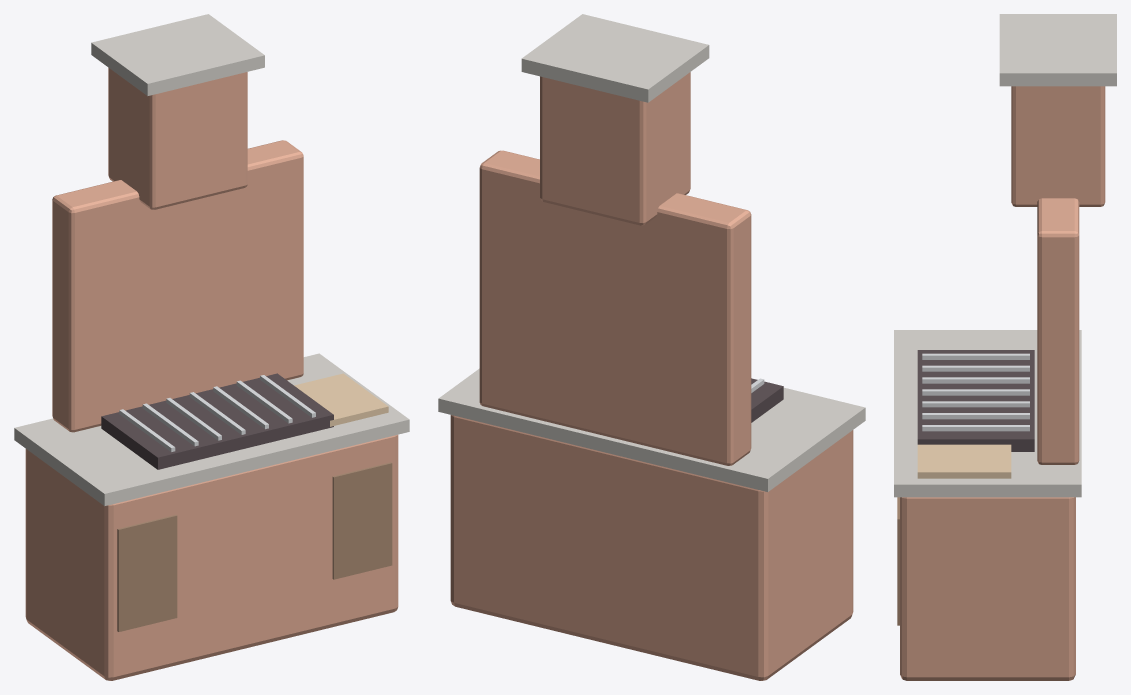
The model's file is churrasqueira.glb.
3 renders of one model, left to right at view 1: azimuth 30°, elevation 25°; view 2: azimuth 150°, elevation 25°; view 3: azimuth 270°, elevation 25°, orthographic. The views are drawn at different scales.
Parts seen in each view (by area): view 1: churrasqueira; view 2: churrasqueira; view 3: churrasqueira.
Part boxes in pixels (x1,y1,x2,y2): churrasqueira: [14, 14, 409, 680]; churrasqueira: [438, 14, 865, 680]; churrasqueira: [894, 14, 1116, 680].
Bounding box in the file's own units: 1.56 × 2.66 × 0.95.
